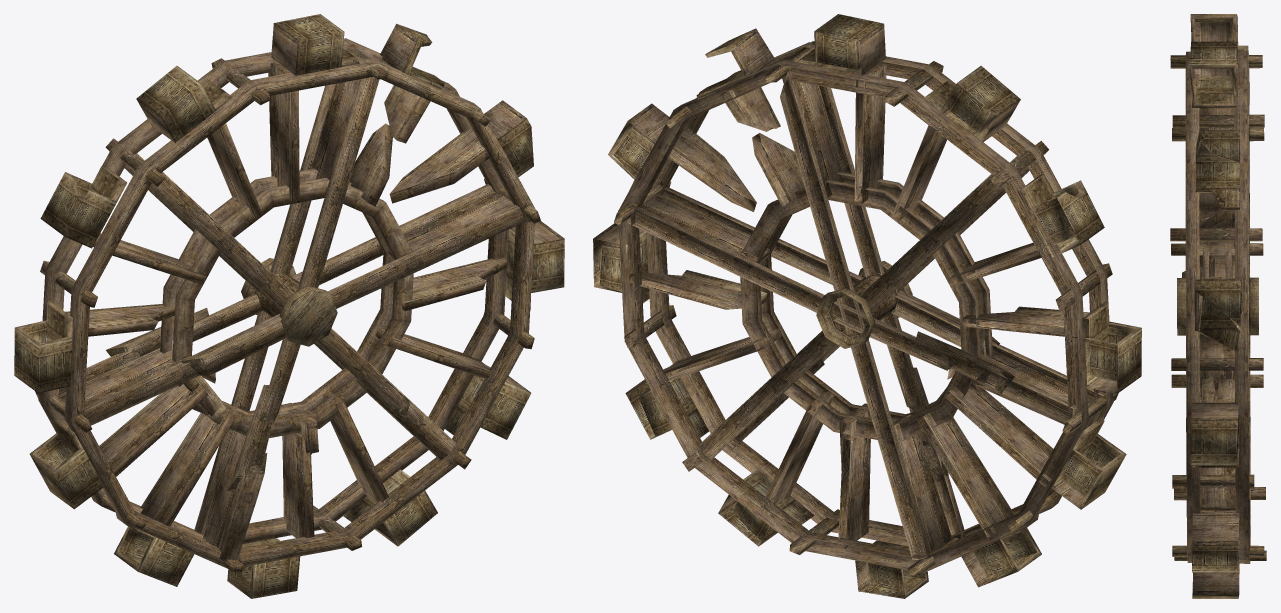
Rendered from S_Build_West094_001.FBX.
3 renders of one model, left to right at view 1: azimuth 30°, elevation 25°; view 2: azimuth 150°, elevation 25°; view 3: azimuth 270°, elevation 25°, orthographic. The views are drawn at different scales.
Parts seen in each view (by area): view 1: S_Build_West094_001; view 2: S_Build_West094_001; view 3: S_Build_West094_001.
Part boxes in pixels (bbox=[...]): S_Build_West094_001: bbox=[14, 14, 564, 598]; S_Build_West094_001: bbox=[593, 14, 1141, 598]; S_Build_West094_001: bbox=[1170, 14, 1266, 598].
Size of the model in its own units: 1040 by 172 by 1041.
